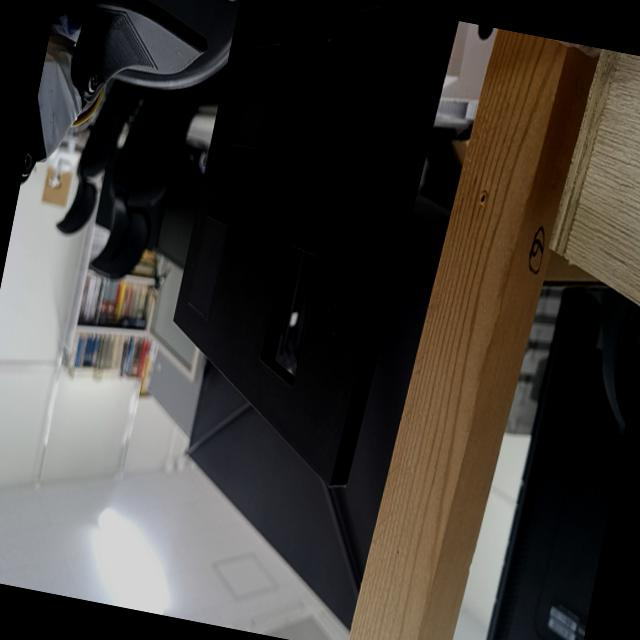Obstacle: (259, 248, 321, 385)
Wall: (174, 1, 442, 483)
